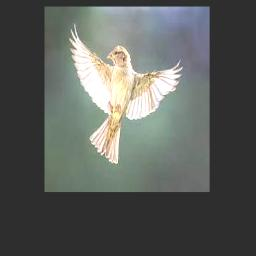Sparrow: (69, 23, 183, 163)
